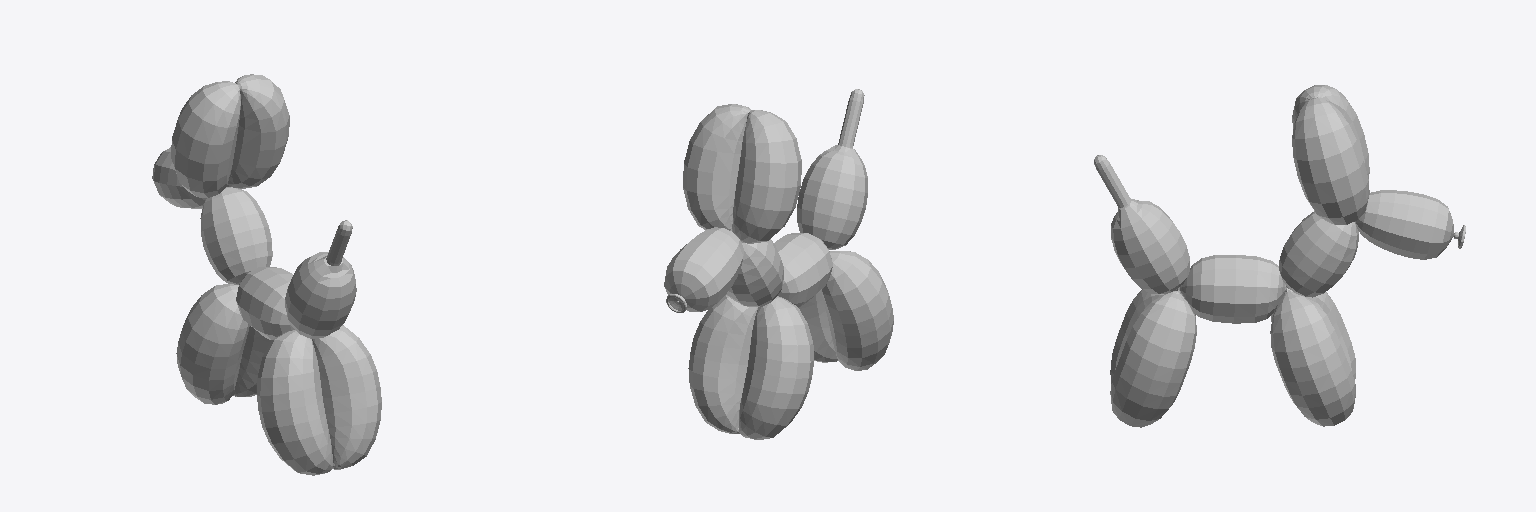
File: ballooon.obj
The picture shows the model from 3 angles: view 1: azimuth 30°, elevation 25°; view 2: azimuth 150°, elevation 25°; view 3: azimuth 270°, elevation 25°; orthographic projection.
Bounding box in the file's own units: 0.7506 × 2.02 × 2.12.